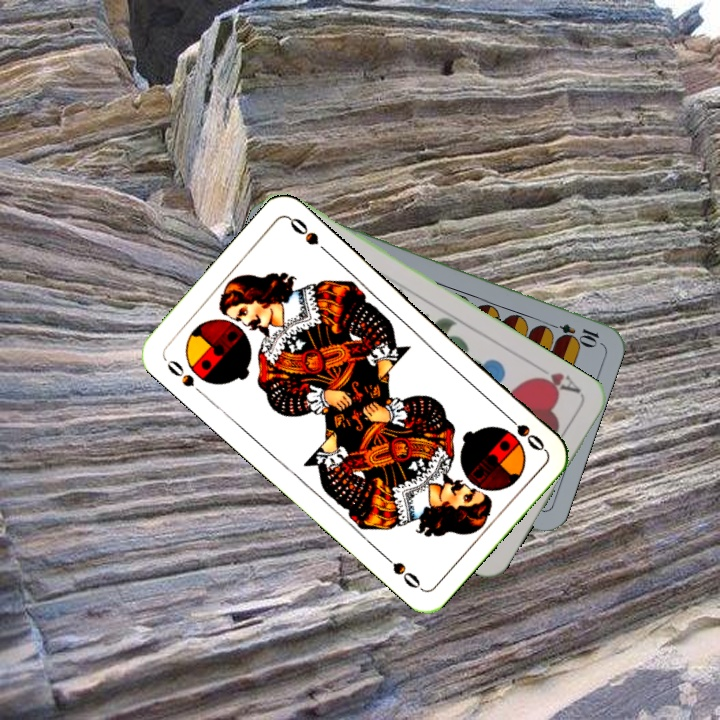E10: (543, 318, 602, 348)
HA: (529, 368, 584, 397)
SO: (500, 409, 548, 454), (160, 354, 207, 399)
